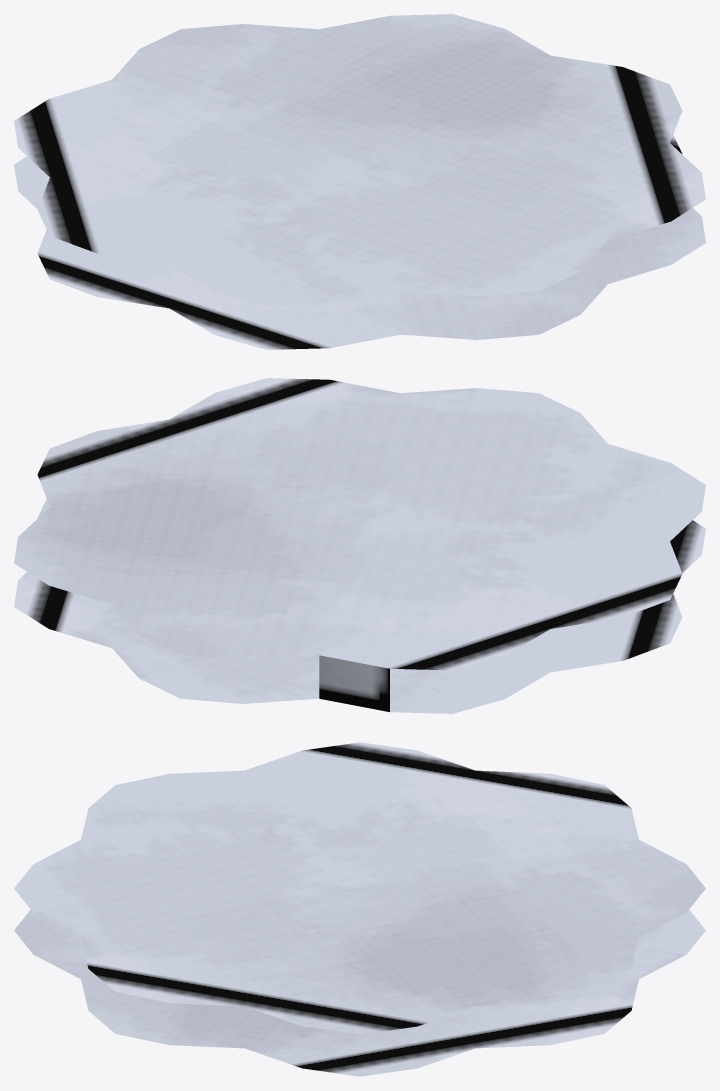
Rendered from SM_Coin_gold 1.fbx.
3 views of the same model, one above another, from view 1: azimuth 30°, elevation 25°; view 2: azimuth 150°, elevation 25°; view 3: azimuth 270°, elevation 25° (orthographic). The views are drawn at different scales.
Visible parts, largest first — view 1: SM_coin_gold; view 2: SM_coin_gold; view 3: SM_coin_gold.
Boxes of the visible parts, x1=… form: SM_coin_gold: x1=14, y1=14, x2=705, y2=349; SM_coin_gold: x1=14, y1=378, x2=705, y2=713; SM_coin_gold: x1=14, y1=742, x2=705, y2=1076.
Size of the model in its own units: 29.88 by 2 by 29.88.
